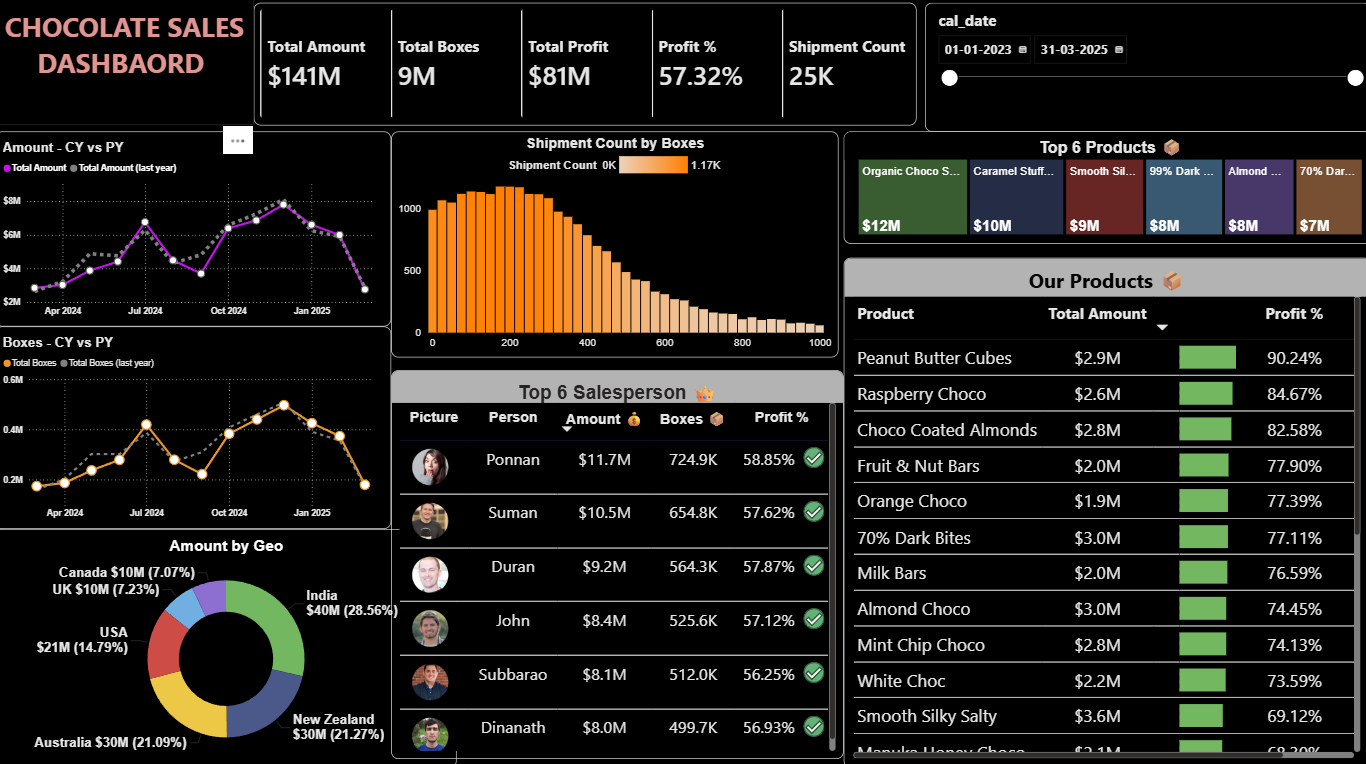

The dashboard page shown, as its layout file describes it:
{"tool":"powerbi","page":{"name":"CHOCOLATE SALES REPORT","canvas":[1920,1080],"ordinal":0},"visuals":[{"type":"lineChart","title":"Amount - CY vs  PY","fields":{"Y":["shipments.Total Amount","shipments.Total Amount (last year)"],"Category":["calendar.Start of Month"]},"box":[0,191.9,552.9,272.1],"z":0},{"type":"lineChart","title":"Boxes - CY vs  PY","fields":{"Category":["calendar.Start of Month"],"Y":["shipments.Total Boxes","shipments.Total Boxes (last year)"]},"box":[0,464,552.9,282.6],"z":1000},{"type":"donutChart","title":"Amount by Geo","fields":{"Category":["locations.Geo"],"Y":["shipments.Total Amount"]},"box":[0,747.2,644.3,333.4],"z":2000},{"type":"columnChart","title":"Shipment Count by Boxes","fields":{"Y":["shipments.Shipment Count"],"Category":["shipments.Boxes (bins) 2"]},"box":[553.7,191.4,623.7,314.9],"z":3000},{"type":"tableEx","title":"Top 6 Salesperson 👑","fields":{"Values":["people.Picture","people.First Name","shipments.Total Amount","shipments.Total Boxes","shipments.Profit %"]},"box":[552.9,525,631.4,542.4],"z":4000},{"type":"treemap","title":"Top 6 Products 📦","fields":{"Group":["products.Product"],"Values":["shipments.Total Amount"]},"box":[1184.3,191.9,736,157],"z":5000},{"type":"tableEx","title":"Our Products 📦","fields":{"Values":["products.Product","shipments.Total Amount","shipments.Profit %"]},"box":[1184.3,368,736,711.6],"z":6000},{"type":"cardVisual","fields":{"Data":["shipments.Total Amount","shipments.Total Boxes","shipments.Total Profit","shipments.Profit %","shipments.Shipment Count"]},"box":[361,12.2,924.4,170.9],"z":7000},{"type":"slicer","fields":{"Values":["calendar.cal_date"]},"box":[1297.7,12.2,622.7,179.7],"z":8000},{"type":"textbox","box":[0,0,361,183.1],"z":9000}]}

Visuals, with their boxes in screenshot pixels (x1, y1, x2, y2), scaled from the page's 1920x1080 canvas onto the 1366x764 screenshot:
"Amount - CY vs  PY" lineChart: [0,136,393,328]
"Boxes - CY vs  PY" lineChart: [0,328,393,528]
"Amount by Geo" donutChart: [0,529,458,763]
"Shipment Count by Boxes" columnChart: [394,135,838,358]
"Top 6 Salesperson 👑" tableEx: [393,371,843,755]
"Top 6 Products 📦" treemap: [843,136,1365,247]
"Our Products 📦" tableEx: [843,260,1365,763]
cardVisual - shipments.Total Amount x shipments.Total Boxes: [257,9,915,130]
slicer - calendar.cal_date: [923,9,1365,136]
textbox: [0,0,257,130]
